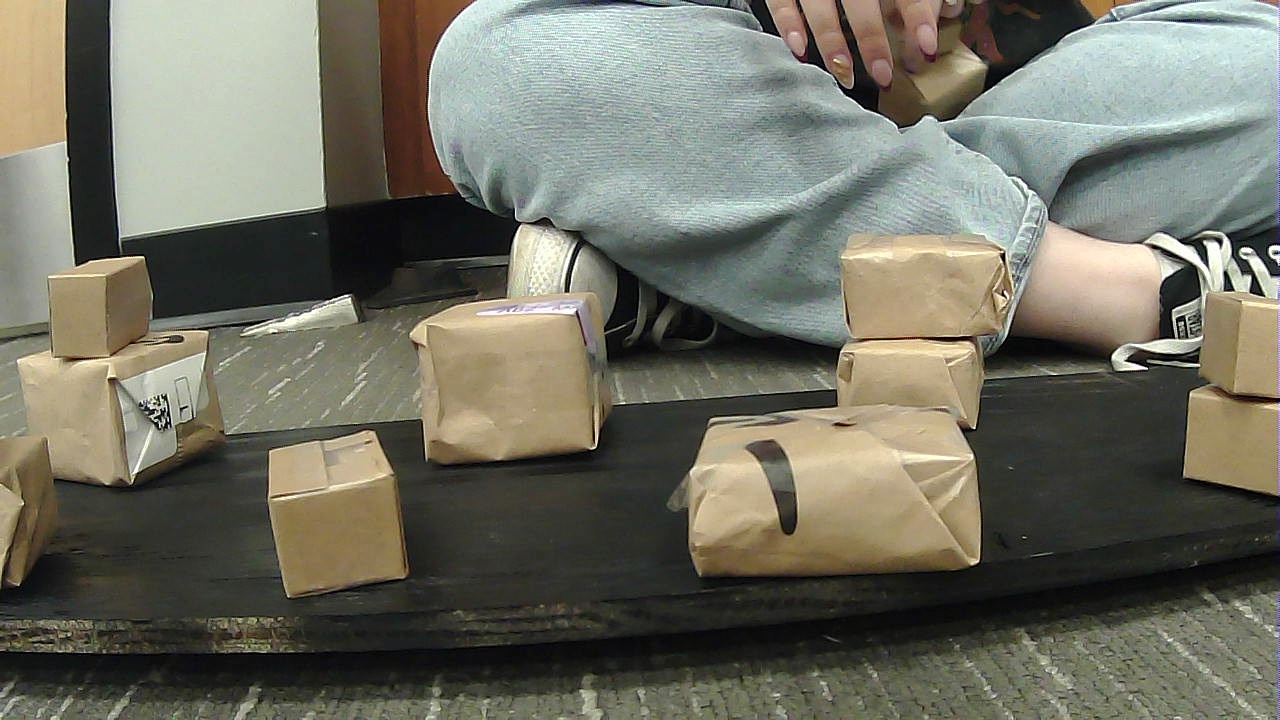package: (665, 388, 1007, 574), (402, 283, 625, 460), (12, 317, 246, 479), (249, 425, 426, 600), (825, 219, 1045, 355), (31, 241, 181, 361), (842, 333, 994, 431), (1183, 280, 1275, 404), (10, 427, 81, 582), (1193, 381, 1279, 500)
stacked: (24, 222, 237, 487), (820, 208, 1034, 432), (1159, 267, 1276, 509)
